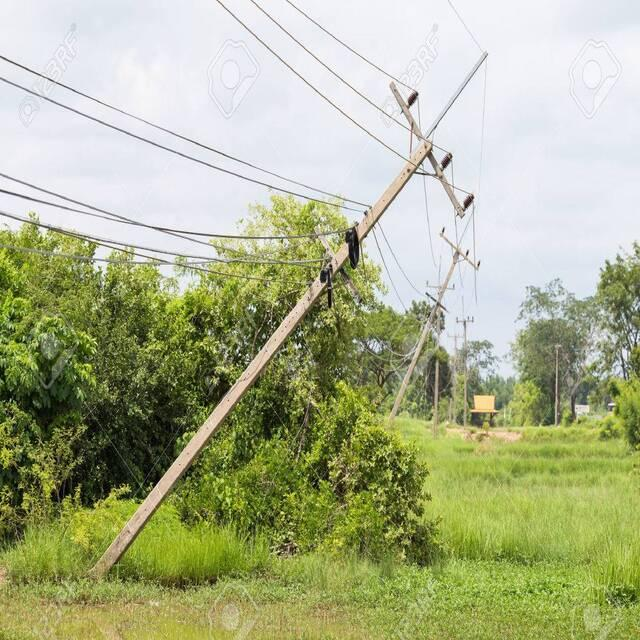Inclined Pole: (76, 48, 485, 588)
